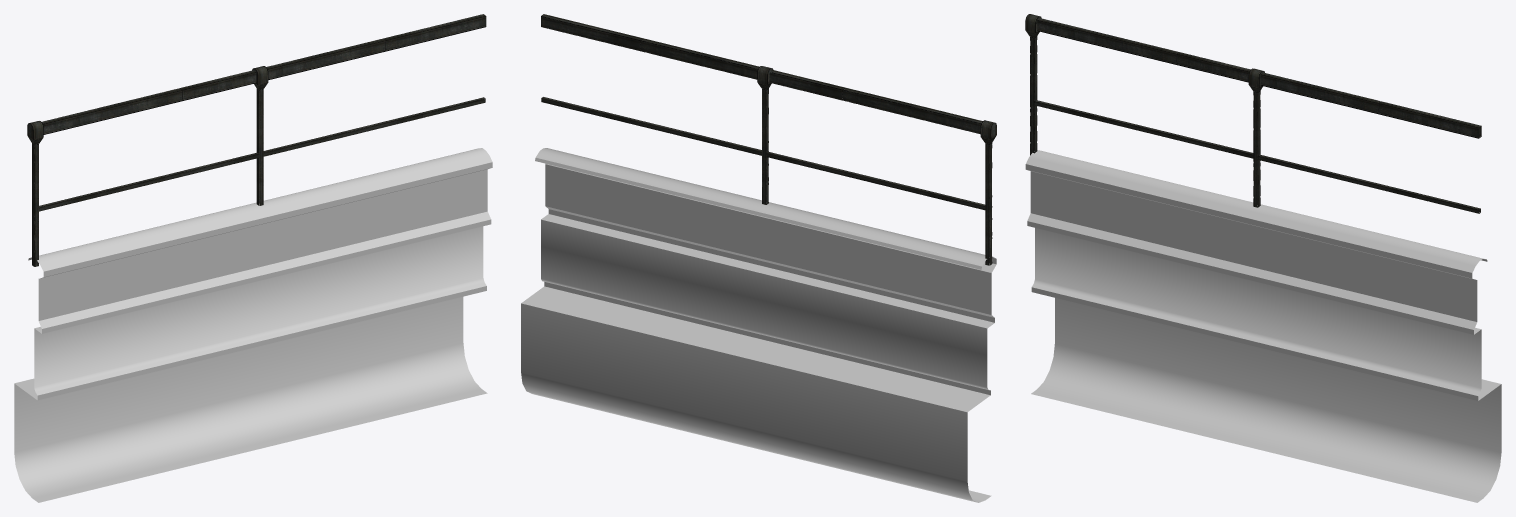
The model's file is engineroom_floor_lip.dae.
3 renders of one model, left to right at view 1: azimuth 30°, elevation 25°; view 2: azimuth 150°, elevation 25°; view 3: azimuth 330°, elevation 25°, orthographic.
Visible parts, largest first — view 1: engine_floor_lip, engine_floor_lip_rail; view 2: engine_floor_lip, engine_floor_lip_rail; view 3: engine_floor_lip, engine_floor_lip_rail.
Boxes of the visible parts, x1,y1,x2,y2 form: engine_floor_lip: (14, 148, 492, 502); engine_floor_lip_rail: (27, 14, 486, 266); engine_floor_lip: (521, 148, 996, 502); engine_floor_lip_rail: (541, 14, 996, 265); engine_floor_lip: (1025, 150, 1501, 502); engine_floor_lip_rail: (1025, 14, 1481, 213).
Bounding box in the file's own units: 405 × 322 × 45.13.
